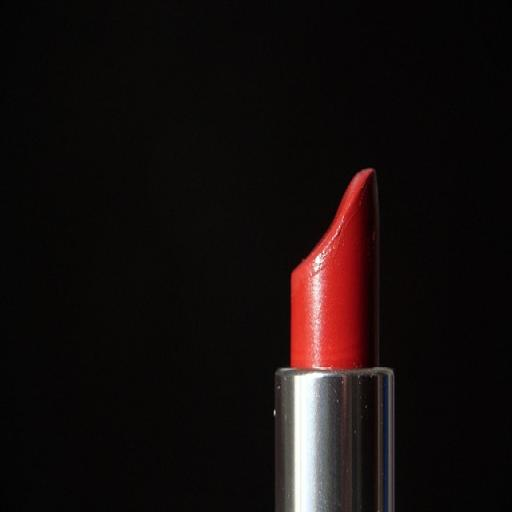lipstick: (276, 170, 393, 511)
